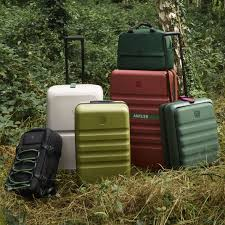suitcase: (160, 30, 218, 168), (47, 34, 106, 163), (110, 68, 179, 174), (72, 99, 132, 187)
